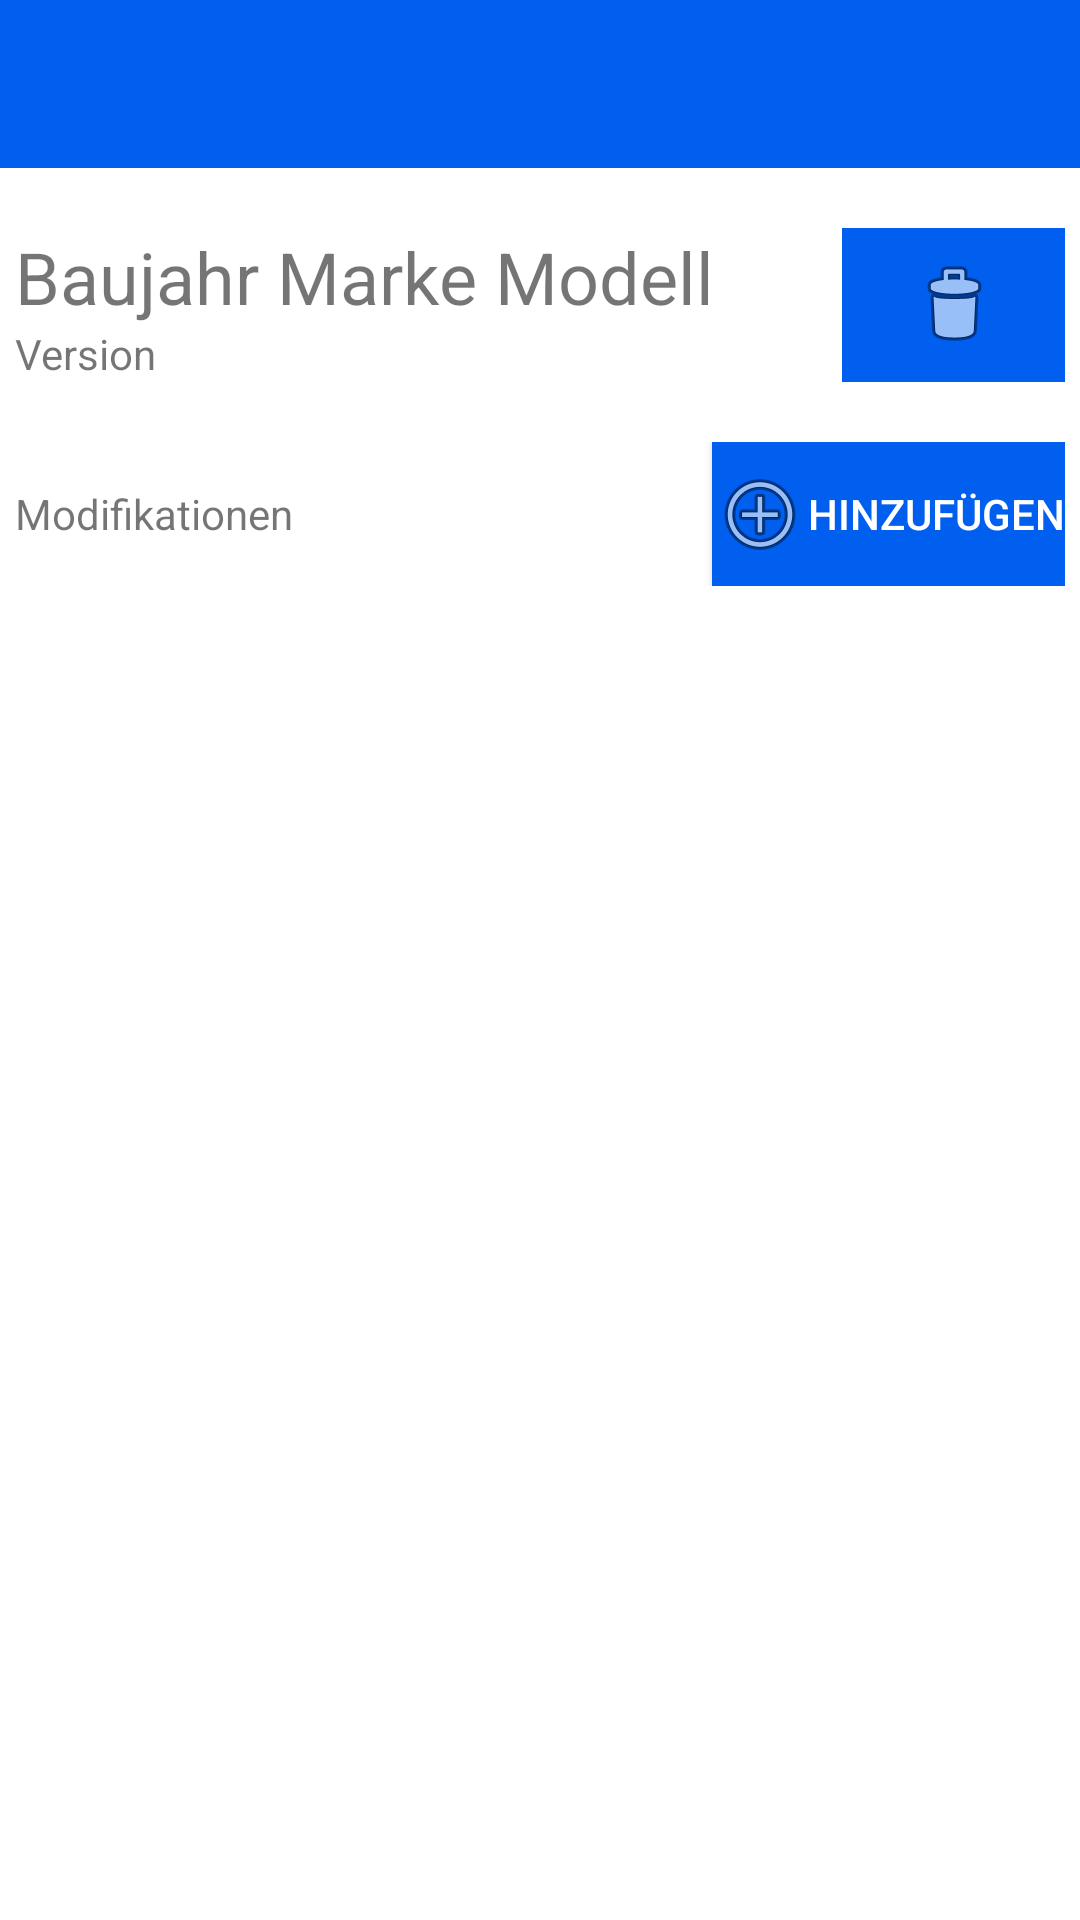

Named icons in this screenshot (1080*1920) and their centers, [x,y]:
delete: [953,305]
